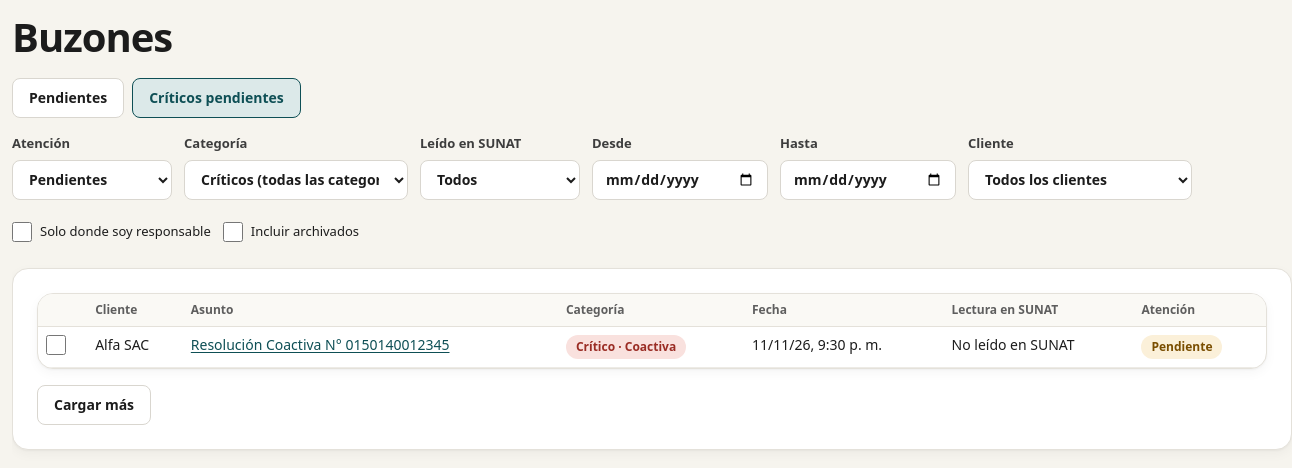
Test: <Bandeja /> · vista global (CA-1, CA-2) › «Cargar más» pide la página siguiente con el mismo filtro y suma las filas; sin `siguiente` no hay botón
Click the button "Cargar más" at point(94, 404), box [37, 384, 151, 424]
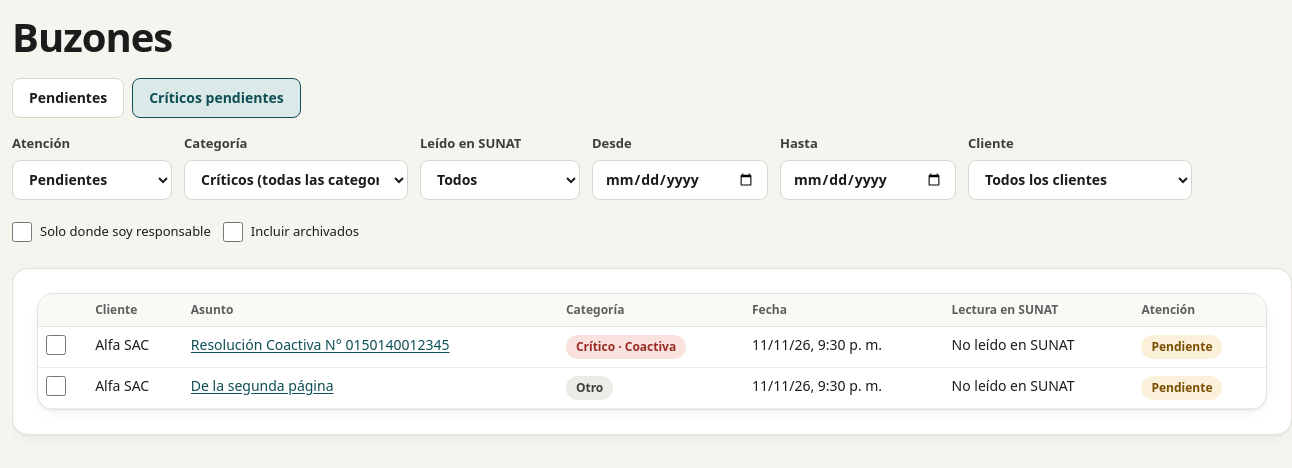
Check: the link "Resolución Coactiva N° 0150140012345" is shown, box [191, 334, 450, 354]
Check: the link "De la segunda página" is shown, box [191, 376, 334, 394]
Check: the button "Cargar más" is gone
